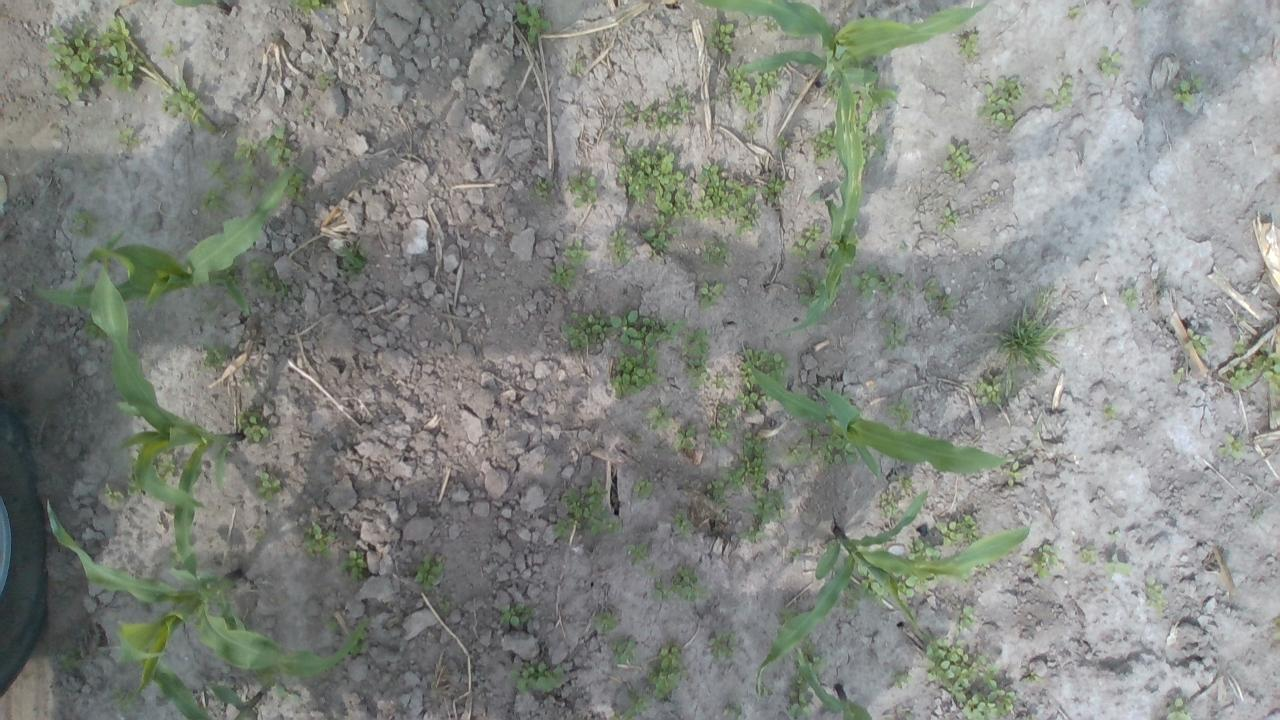Maize: (41, 501, 373, 698), (92, 228, 252, 588), (754, 488, 1032, 693), (33, 165, 303, 319), (694, 0, 988, 138), (742, 347, 1038, 475), (780, 84, 864, 333), (146, 661, 267, 720), (788, 644, 874, 720), (164, 0, 237, 13)
Weeds: (991, 290, 1071, 400), (614, 138, 692, 220), (690, 160, 760, 236), (924, 635, 999, 705), (44, 19, 104, 105), (560, 477, 625, 537), (786, 636, 826, 720), (98, 14, 140, 93), (160, 78, 215, 134), (608, 345, 664, 398), (610, 310, 688, 346), (848, 78, 897, 134), (976, 78, 1026, 129), (560, 307, 614, 353), (736, 345, 788, 390), (645, 644, 686, 700), (230, 134, 263, 202), (962, 679, 1016, 720), (509, 660, 562, 698), (512, 0, 554, 47), (682, 326, 712, 390), (724, 61, 760, 114), (894, 570, 945, 607), (247, 255, 290, 298), (850, 264, 900, 300), (738, 428, 769, 486), (410, 550, 448, 596), (708, 464, 744, 512), (641, 213, 679, 258), (1250, 343, 1280, 400), (818, 427, 861, 466), (750, 481, 787, 525), (300, 519, 337, 562), (935, 512, 981, 546), (668, 565, 706, 604), (974, 371, 1008, 414), (922, 277, 961, 314), (706, 402, 736, 450), (786, 222, 822, 262), (854, 562, 888, 604), (233, 408, 272, 444), (564, 170, 600, 208), (610, 689, 654, 720), (941, 142, 977, 178), (1042, 72, 1074, 112), (262, 126, 292, 168), (704, 17, 736, 56), (807, 124, 838, 164), (605, 226, 635, 266), (796, 268, 826, 308), (336, 240, 369, 276), (639, 102, 679, 131), (202, 156, 234, 192), (1213, 432, 1249, 464), (1143, 574, 1169, 618), (1029, 542, 1059, 580), (859, 130, 886, 172), (750, 65, 780, 102), (338, 548, 368, 584), (708, 628, 737, 664), (497, 602, 538, 627), (885, 398, 916, 431), (1172, 74, 1202, 108), (548, 261, 582, 291), (1096, 46, 1124, 81), (905, 537, 945, 561), (1182, 327, 1212, 359), (56, 642, 84, 676), (202, 341, 235, 369), (286, 164, 308, 206), (734, 390, 774, 413), (874, 490, 900, 524), (698, 280, 728, 309), (612, 638, 642, 666), (82, 316, 112, 344), (70, 212, 100, 240), (562, 238, 590, 268), (781, 442, 818, 464), (253, 471, 281, 500), (198, 187, 226, 216), (645, 403, 674, 431), (934, 205, 961, 235), (956, 28, 980, 61), (592, 608, 620, 636), (701, 238, 731, 264), (882, 320, 908, 350), (125, 457, 143, 498), (1000, 454, 1022, 487), (344, 628, 369, 657), (1162, 696, 1192, 720), (670, 509, 694, 539), (670, 85, 694, 115), (1119, 284, 1143, 314), (285, 0, 327, 17), (954, 604, 976, 636), (761, 176, 788, 202), (532, 175, 558, 202), (1228, 366, 1256, 391), (551, 517, 577, 543), (673, 422, 697, 450), (273, 684, 303, 706), (151, 452, 177, 477), (112, 126, 140, 148), (1103, 558, 1133, 578), (624, 540, 650, 561), (109, 687, 130, 713), (848, 56, 878, 74), (621, 99, 639, 129), (318, 611, 340, 635), (633, 478, 657, 500), (738, 523, 763, 544), (796, 420, 822, 440), (824, 72, 842, 100), (839, 587, 859, 611), (896, 474, 916, 497), (99, 486, 123, 505), (226, 256, 241, 286), (252, 670, 274, 690), (649, 582, 672, 601), (1078, 545, 1098, 565), (158, 40, 176, 61), (892, 673, 914, 690), (1102, 400, 1120, 420), (1022, 670, 1041, 687), (760, 14, 776, 34), (317, 73, 331, 92), (1172, 365, 1185, 385), (1230, 340, 1247, 355), (731, 703, 745, 720), (1066, 5, 1080, 22), (742, 120, 758, 134), (1131, 0, 1153, 10), (808, 190, 821, 206), (974, 562, 990, 574), (712, 374, 724, 388), (790, 546, 801, 558), (572, 64, 584, 75), (777, 134, 786, 146), (958, 572, 968, 582), (440, 598, 449, 608)
